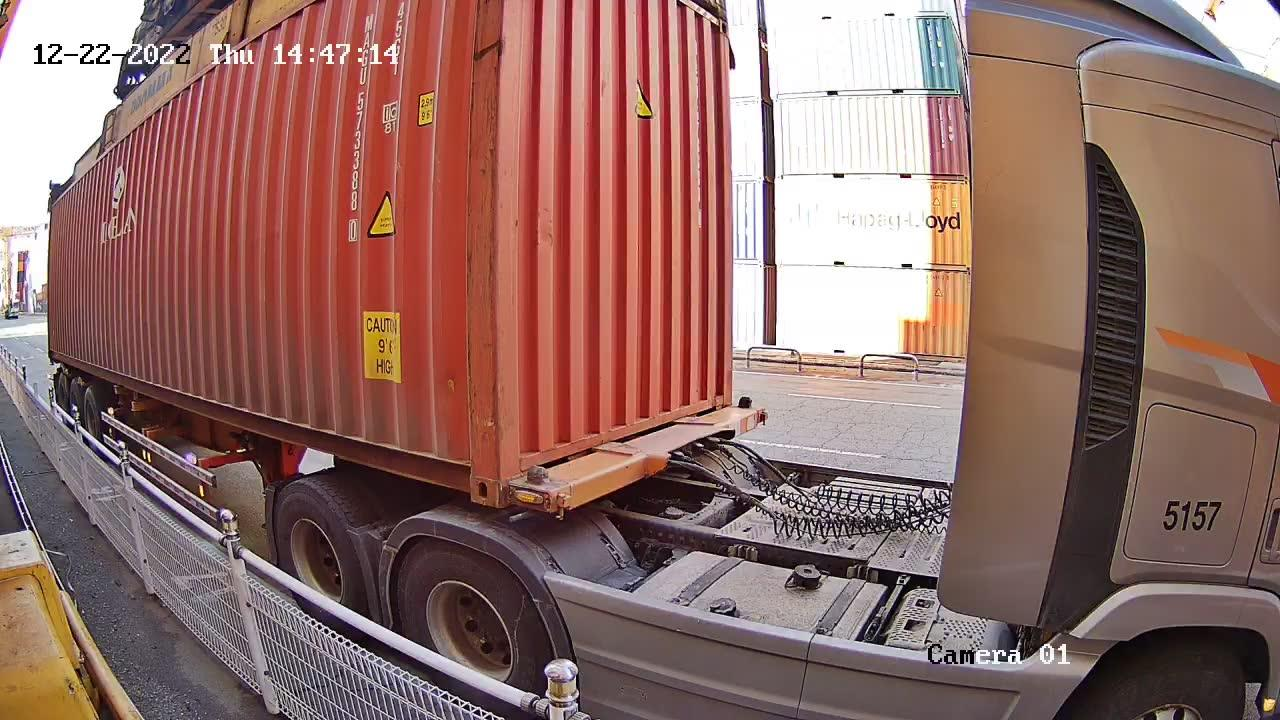Chassis: (506, 405, 766, 516)
Cone: (515, 466, 555, 524), (730, 394, 757, 414)
Hole_R: (440, 436, 498, 507)
Tire: (397, 543, 545, 691), (270, 484, 362, 611)
